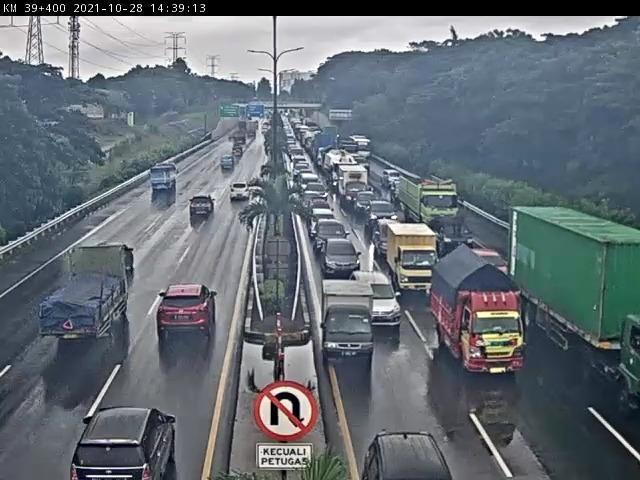car: (71, 399, 180, 480), (360, 414, 464, 480), (150, 278, 229, 356), (352, 270, 399, 325), (324, 237, 358, 274), (188, 189, 220, 215), (318, 223, 350, 249), (311, 210, 341, 237), (223, 184, 249, 210), (369, 201, 393, 226), (217, 158, 234, 177)
truck: (508, 203, 640, 385), (426, 234, 521, 370), (44, 237, 142, 355), (397, 177, 465, 250), (327, 277, 375, 361), (384, 222, 440, 293), (146, 162, 176, 204)
